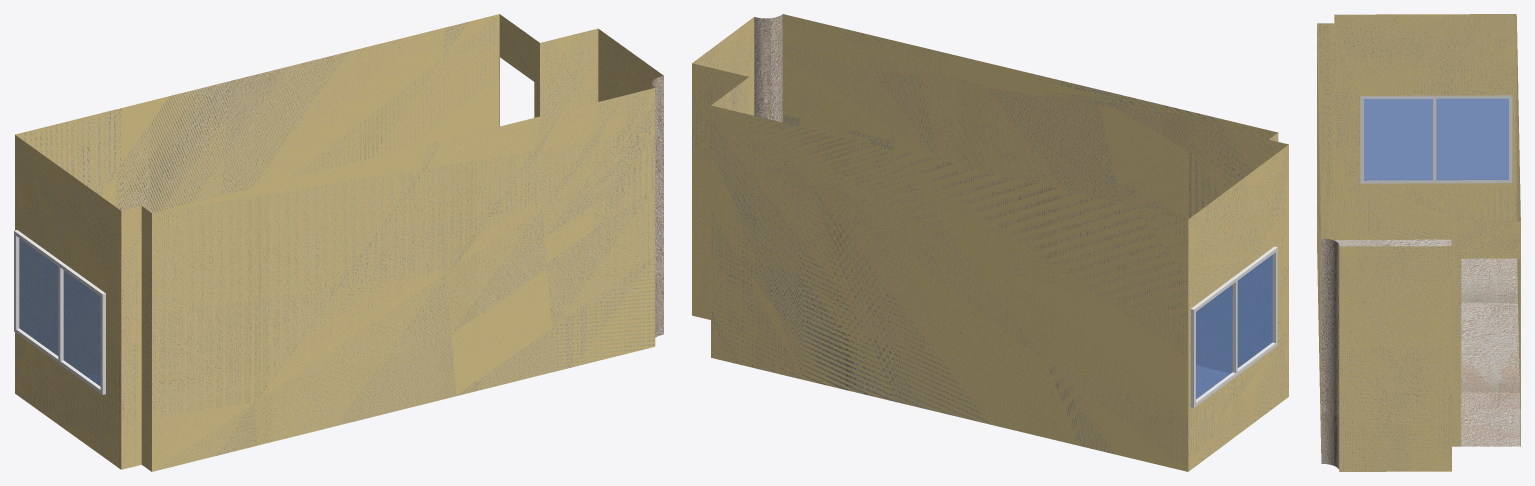
The model's file is DES030.obj.
The picture shows the model from 3 angles, left to right: view 1: azimuth 30°, elevation 25°; view 2: azimuth 150°, elevation 25°; view 3: azimuth 270°, elevation 25°; orthographic projection. The views are drawn at different scales.
Visible parts, largest first — view 1: Mesh6 DES030 Model, Mesh1 ventana2_1 DES030 Model; view 2: Mesh6 DES030 Model, Mesh1 ventana2_1 DES030 Model; view 3: Mesh6 DES030 Model, Mesh1 ventana2_1 DES030 Model.
Part boxes in pixels (x1,y1,x2,y2): Mesh6 DES030 Model: [15, 14, 663, 471]; Mesh1 ventana2_1 DES030 Model: [14, 230, 105, 394]; Mesh6 DES030 Model: [692, 14, 1288, 471]; Mesh1 ventana2_1 DES030 Model: [1190, 246, 1277, 407]; Mesh6 DES030 Model: [1317, 14, 1520, 471]; Mesh1 ventana2_1 DES030 Model: [1360, 95, 1512, 183].
Bounding box in the file's own units: 8.01 × 3.6 × 2.95.
Materials: 7 (2 with a texture image).
